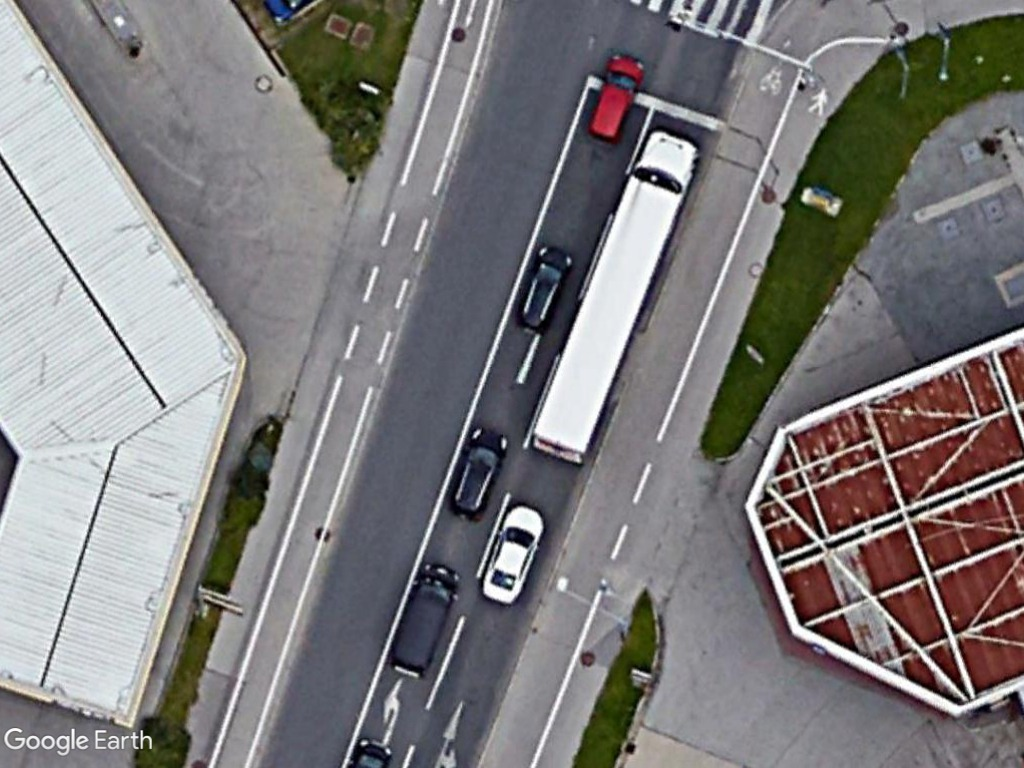car: (476, 500, 549, 608), (510, 237, 577, 339), (443, 424, 509, 525), (582, 50, 646, 144)
longvehicle: (519, 124, 701, 468)
van: (382, 554, 461, 684)
